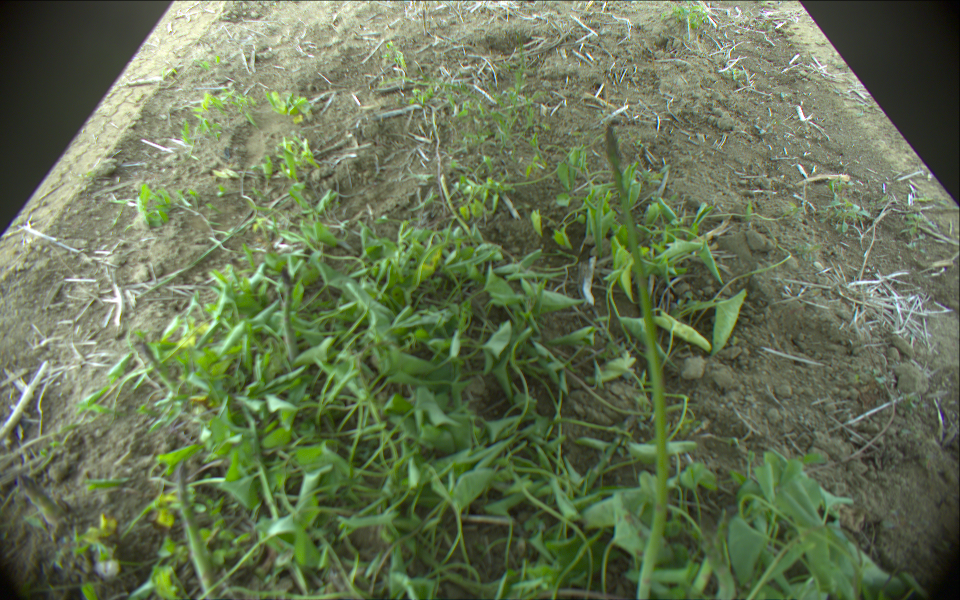aspa: (602, 120, 672, 600), (175, 463, 230, 600), (240, 405, 284, 524), (11, 474, 70, 526), (134, 341, 183, 397), (279, 268, 306, 364)
